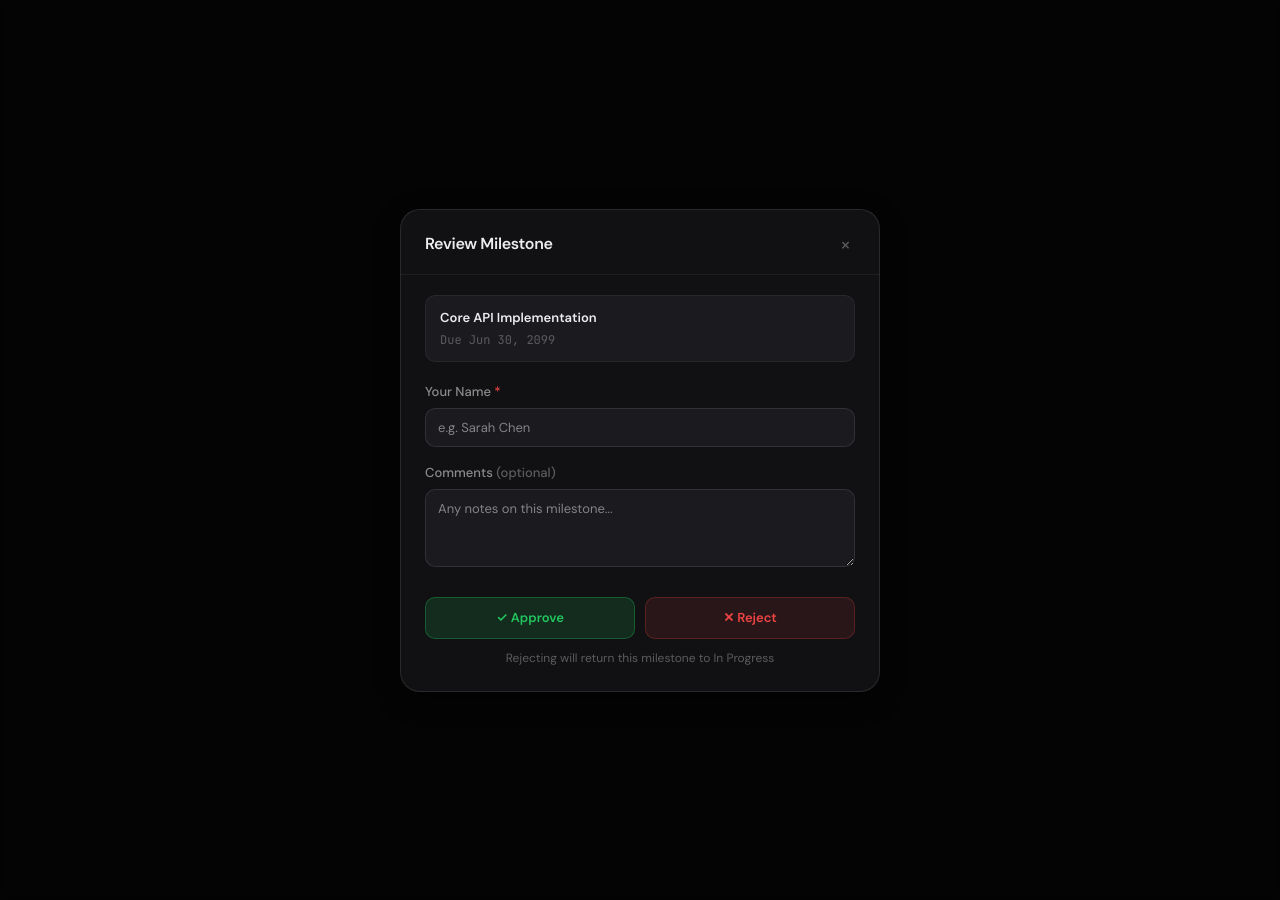
Test: ApprovalDialog › shows error when reject clicked without approver name
This screenshot has width=1280, height=900.
What coordinates should you click on to do the following:
click the button "✕ Reject"
I would click on:
 (750, 618)
Its box is top-left (645, 597), bottom-right (855, 638).
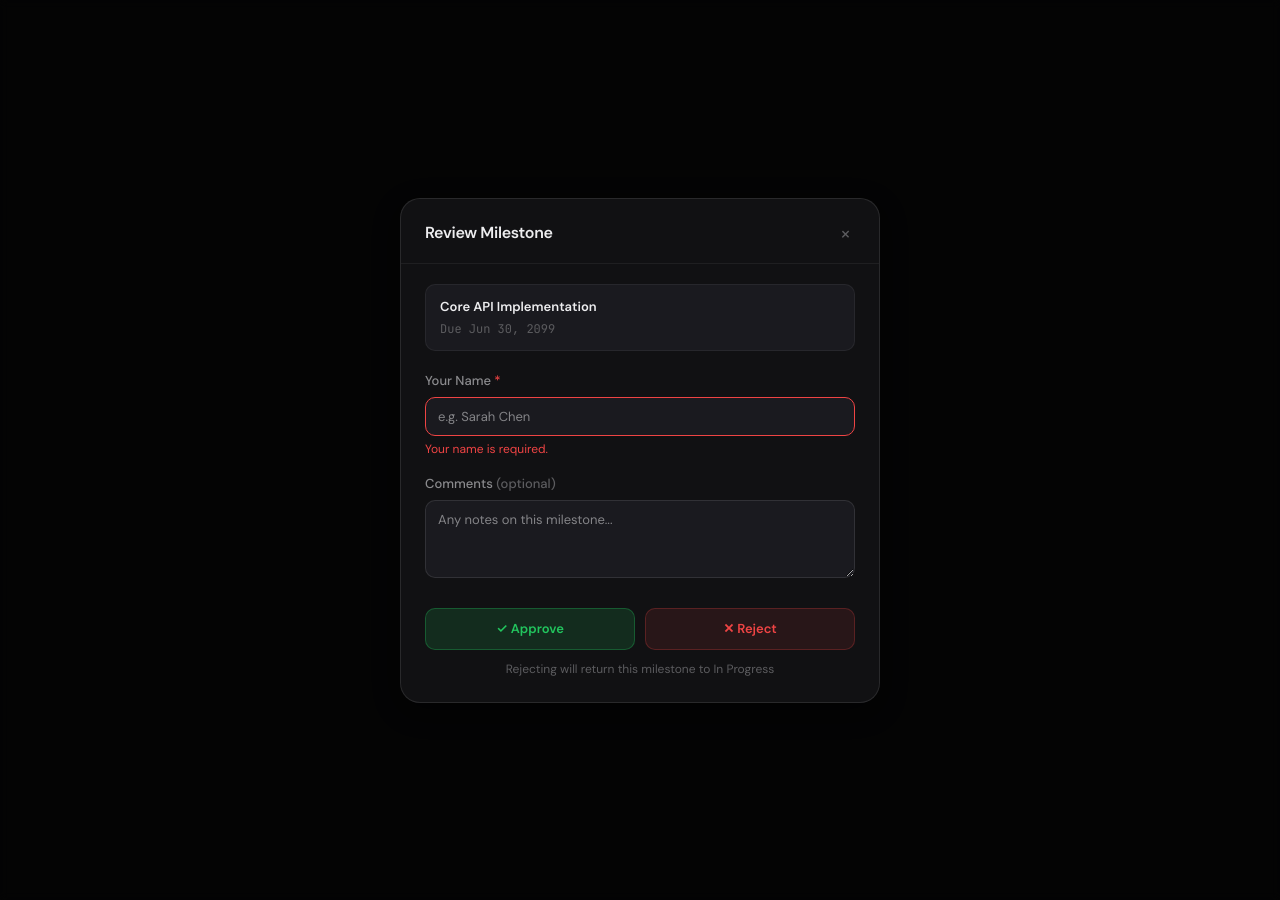
Result: the text "Your name is required." is shown at top-left (425, 441), bottom-right (548, 457)
